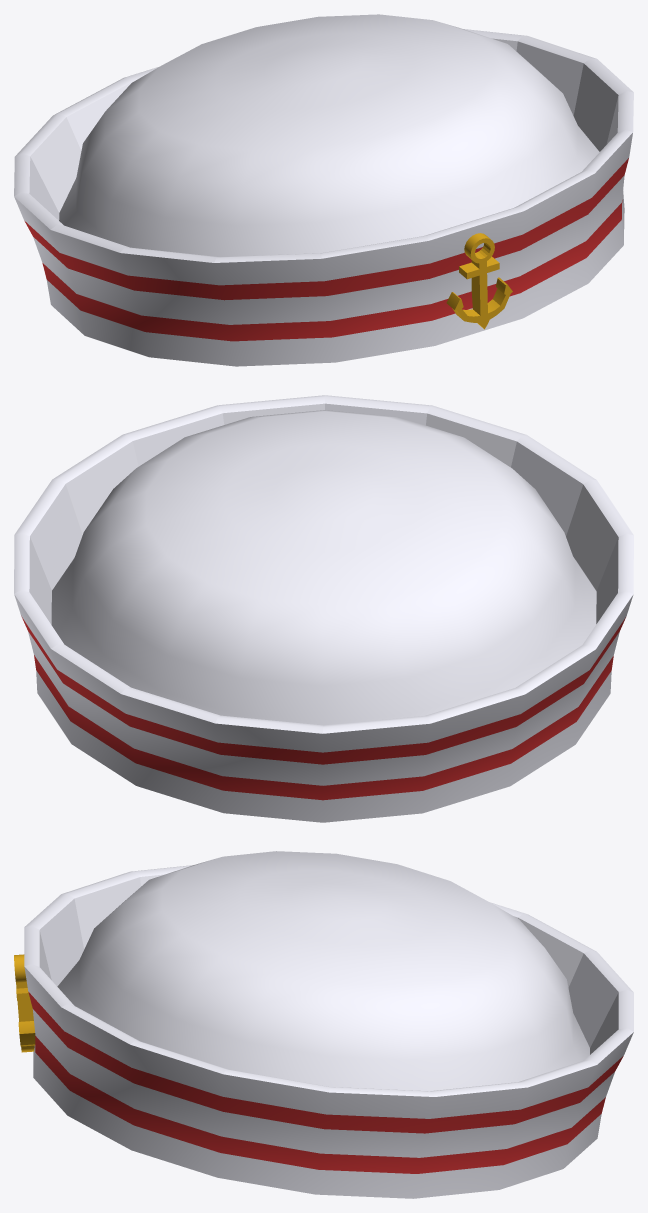
File: Hat_106_02.fbx
3 views of the same model, one above another, from view 1: azimuth 30°, elevation 25°; view 2: azimuth 150°, elevation 25°; view 3: azimuth 270°, elevation 25° (orthographic).
Visible parts, largest first — view 1: Hat_106_02; view 2: Hat_106_02; view 3: Hat_106_02.
Part boxes in pixels (left/top/right/bottom): Hat_106_02: left=14, top=14, right=633, bottom=366; Hat_106_02: left=14, top=395, right=633, bottom=822; Hat_106_02: left=14, top=851, right=633, bottom=1198.
Bounding box in the file's own units: 38.98 × 15.45 × 38.87.
